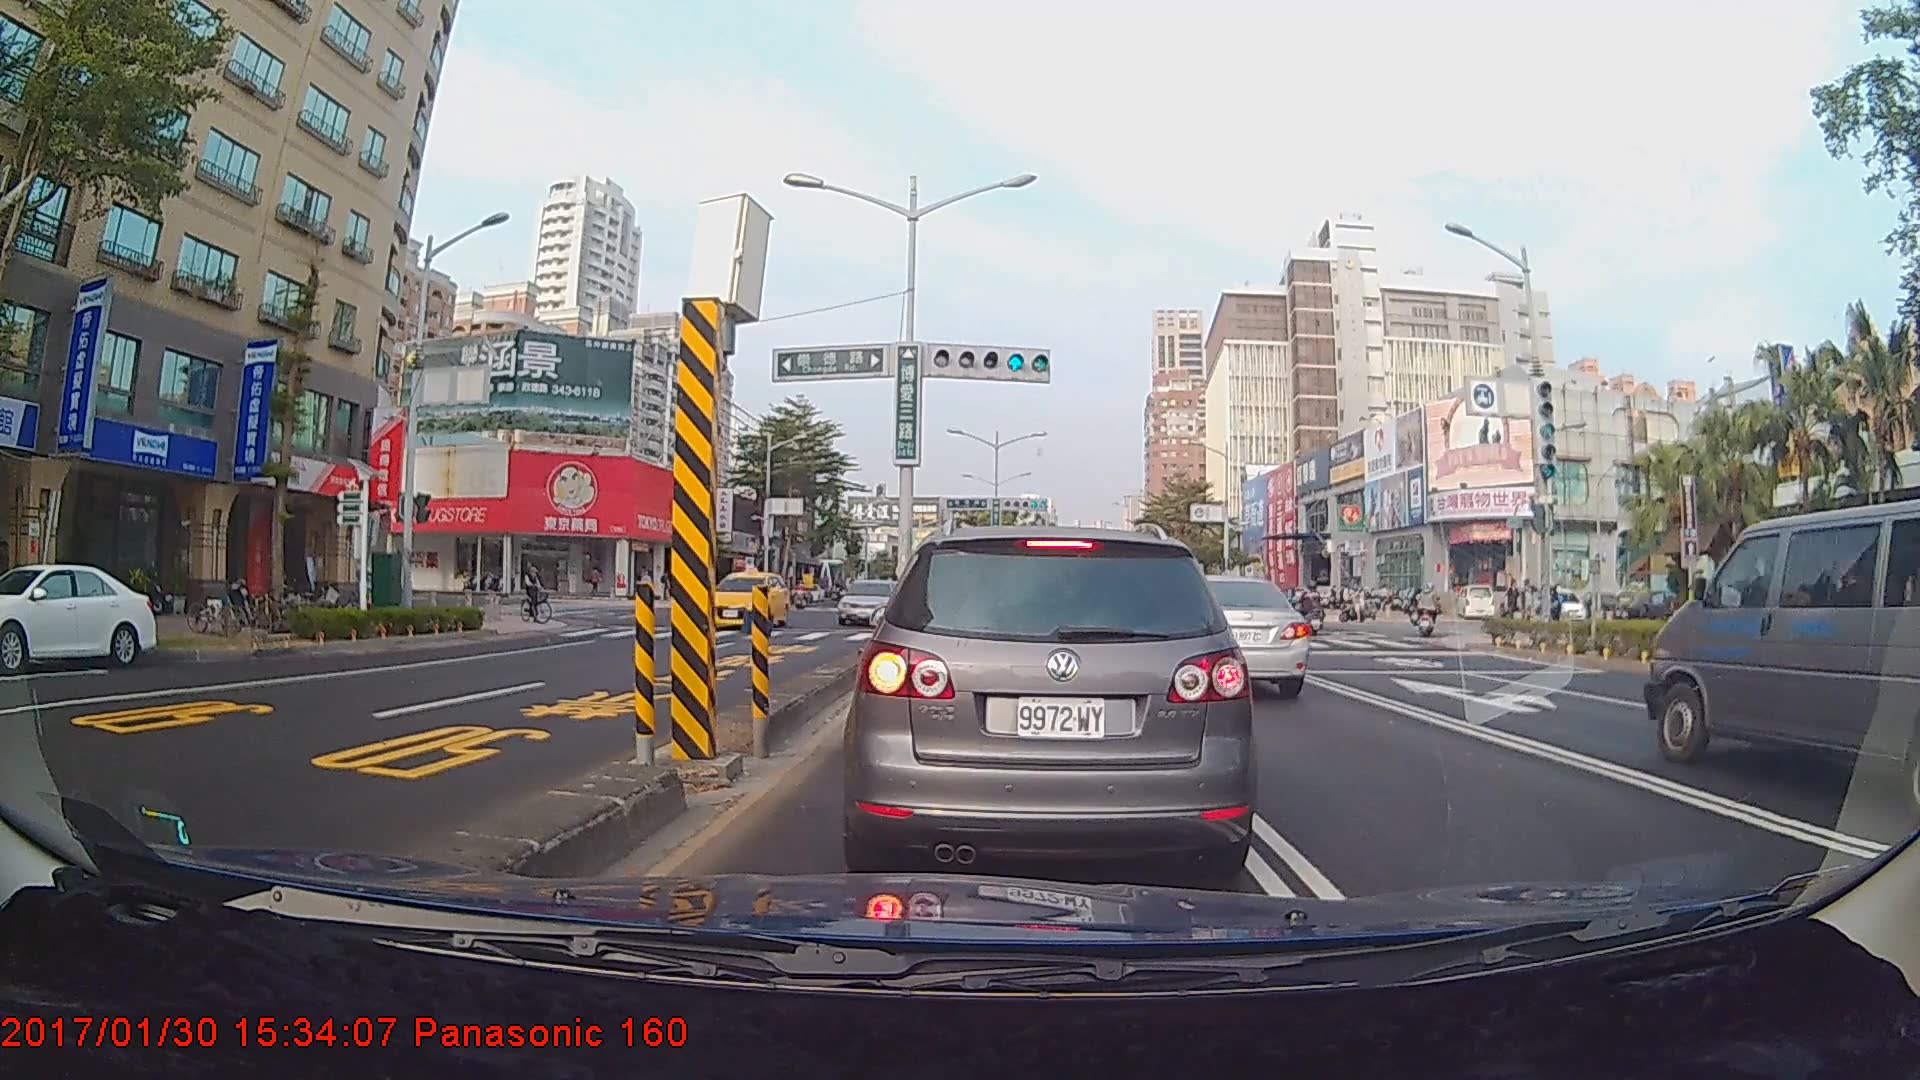rider: (518, 559, 561, 629), (1414, 582, 1442, 640)
vehicle: (856, 522, 1249, 882), (1643, 497, 1920, 819), (1124, 575, 1308, 701), (0, 561, 160, 671), (697, 568, 790, 631), (836, 577, 903, 627)
